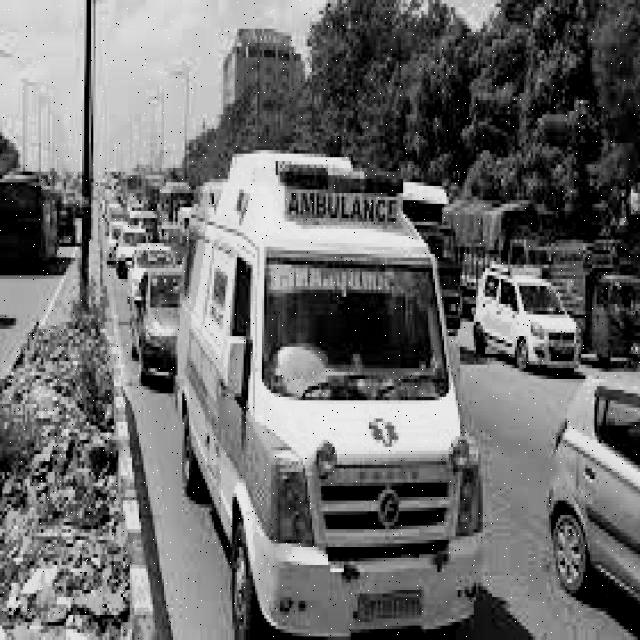LCV: (246, 157, 485, 634)
